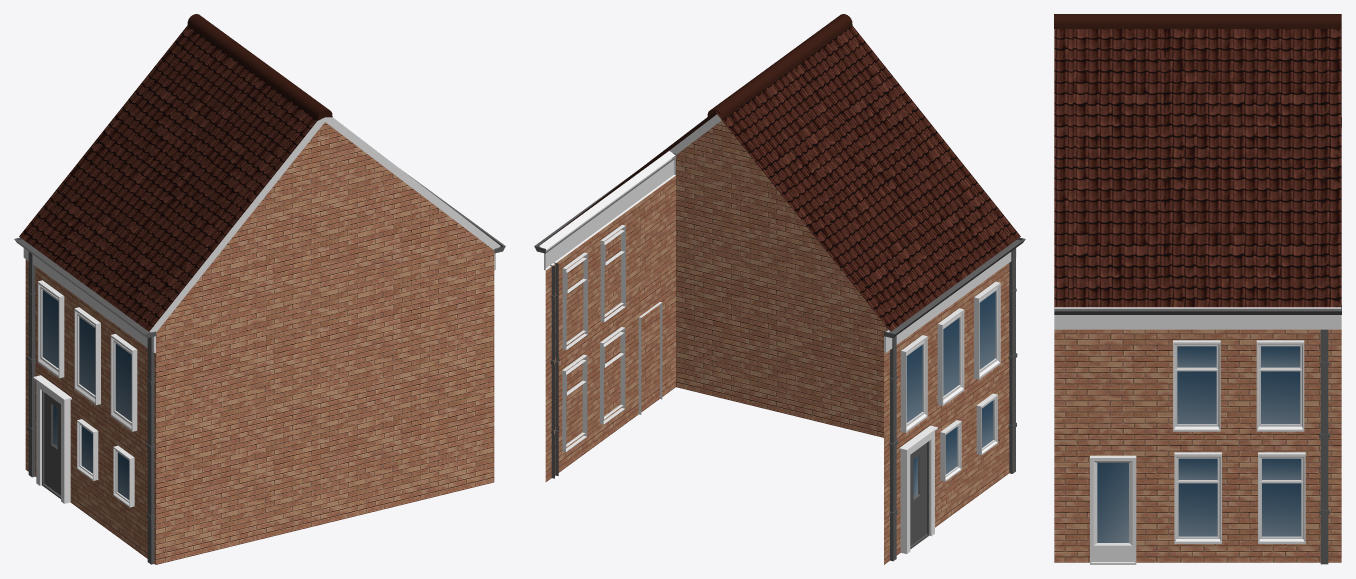
File: It_Bûthús_24.fbx
3 renders of one model, left to right at view 1: azimuth 30°, elevation 25°; view 2: azimuth 150°, elevation 25°; view 3: azimuth 270°, elevation 25°, orthographic. The views are drawn at different scales.
Parts seen in each view (by area): view 1: It_Bûthús_24; view 2: It_Bûthús_24; view 3: It_Bûthús_24.
Part boxes in pixels (x1,y1,x2,y2): It_Bûthús_24: [14, 14, 505, 564]; It_Bûthús_24: [534, 14, 1025, 564]; It_Bûthús_24: [1054, 14, 1341, 564].
Size of the model in its own units: 9.29 by 10.18 by 5.81.
